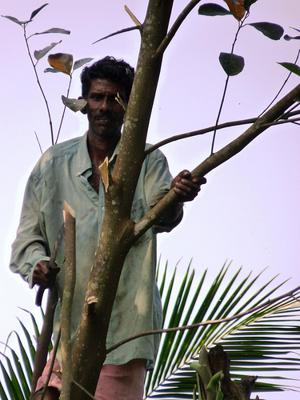person: (8, 56, 206, 400)
